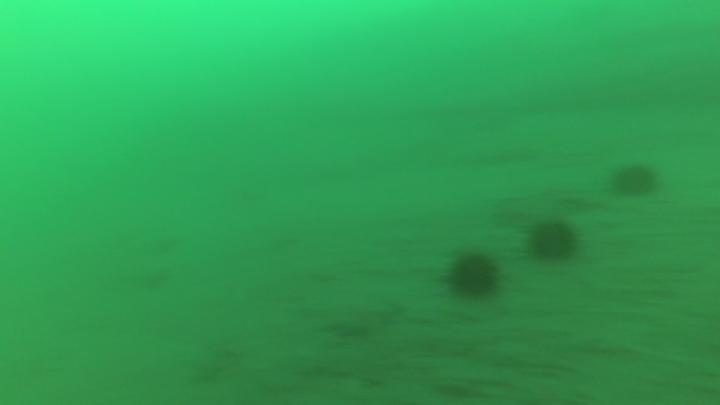echinus: (441, 247, 504, 303), (524, 216, 582, 266), (608, 159, 662, 202)
